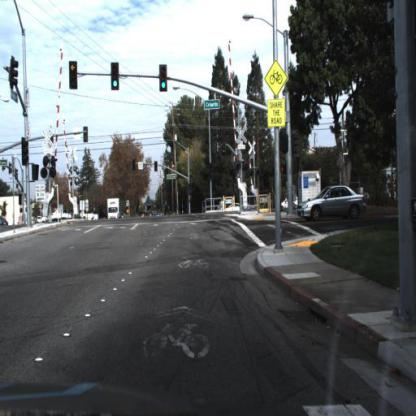car: (294, 182, 371, 222), (278, 187, 300, 213), (220, 196, 239, 216)
trafficLight-Green: (109, 58, 120, 91), (158, 61, 168, 91), (110, 61, 118, 89)
trafficLight-RedLeft: (68, 59, 77, 90)
truck: (102, 195, 122, 224), (106, 196, 120, 218)
